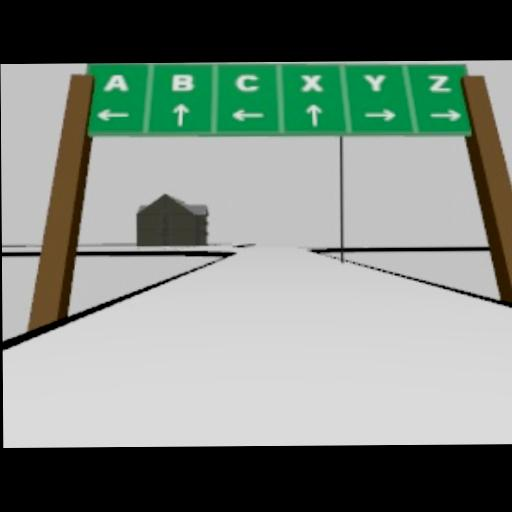A: (103, 74, 129, 91)
B: (171, 73, 193, 90)
C: (236, 73, 258, 92)
Left: (229, 109, 264, 121), (96, 108, 129, 120)
Right: (364, 108, 397, 122), (430, 109, 461, 121)
Straight: (172, 103, 189, 127), (305, 104, 322, 126)
X: (300, 74, 322, 91)
Y: (363, 74, 385, 91)
Z: (428, 73, 450, 92)
